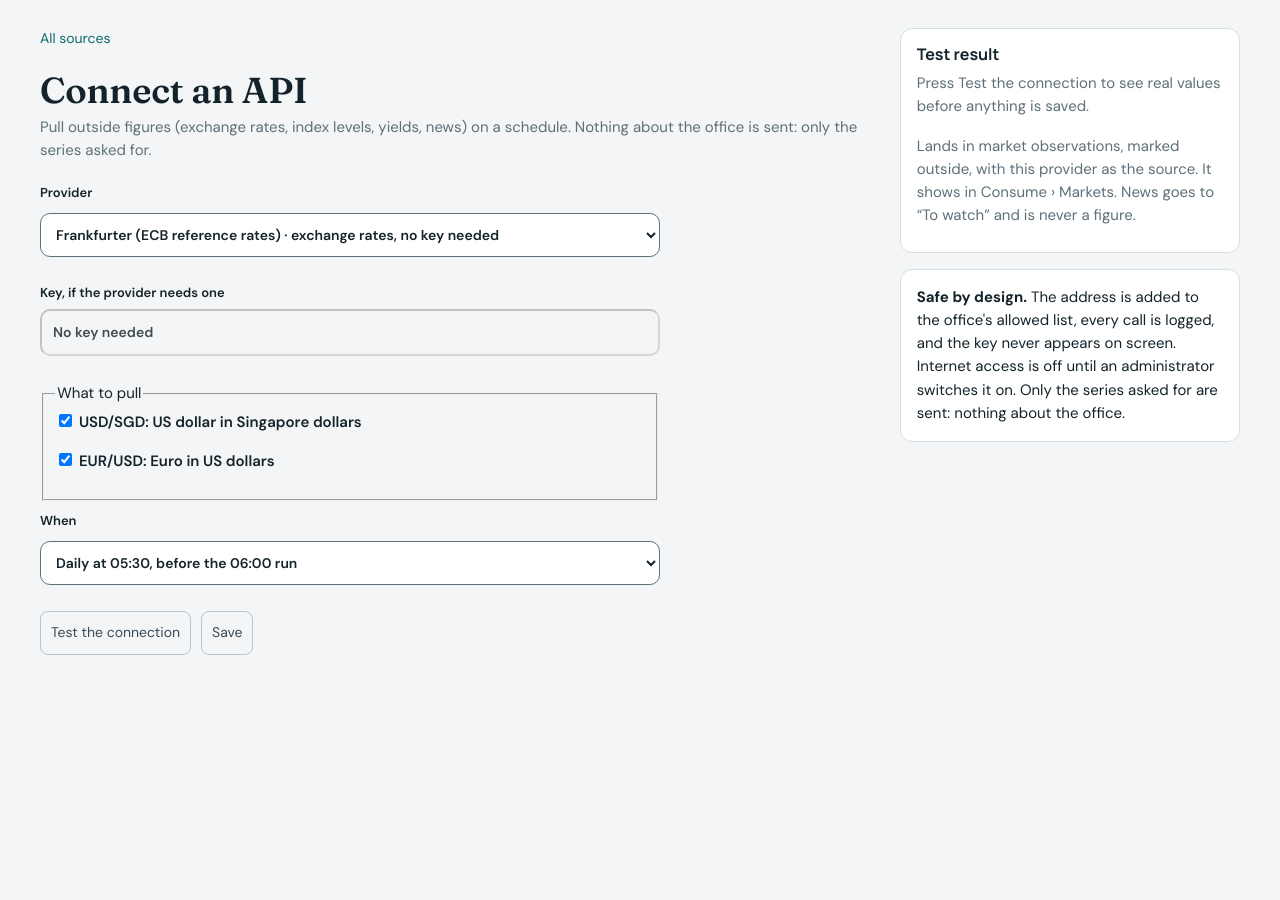
Test: the key is named and never shown; a missing key is said plainly
The width and height of the screenshot is (1280, 900).
Select "FRED (St. Louis Fed) · yields, free key" in the dropdown labelled "Provider" at (350, 235), box [40, 213, 660, 257]
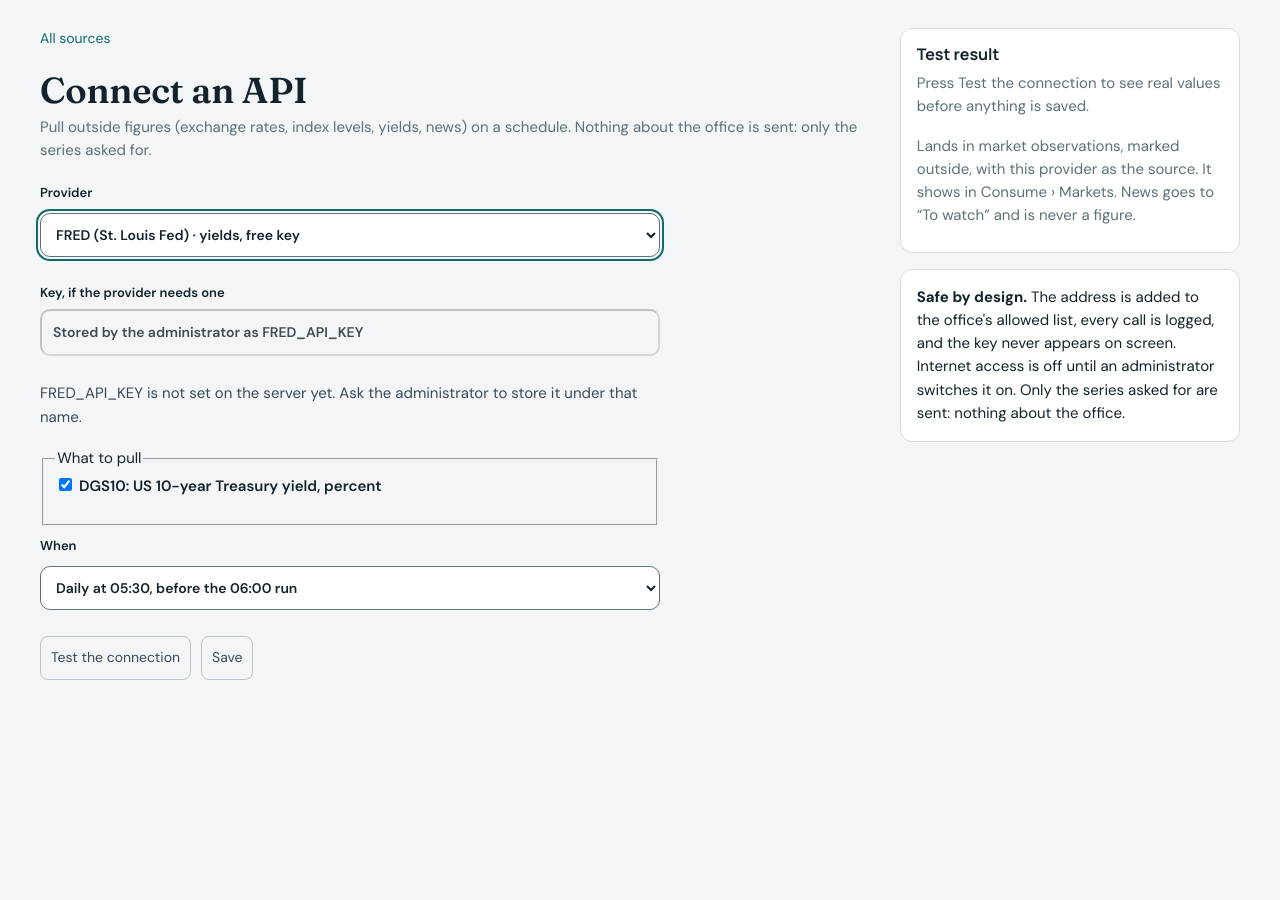
Expected: the field labelled "Key" holds "Stored by the administrator as FRED_API_KEY", [40, 309, 660, 356]
Expected: the text "FRED_API_KEY is not set on the server yet" is shown, [40, 384, 637, 427]
